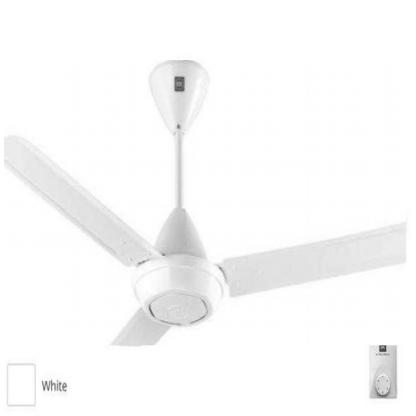ceiling-fan: (4, 60, 407, 346)
